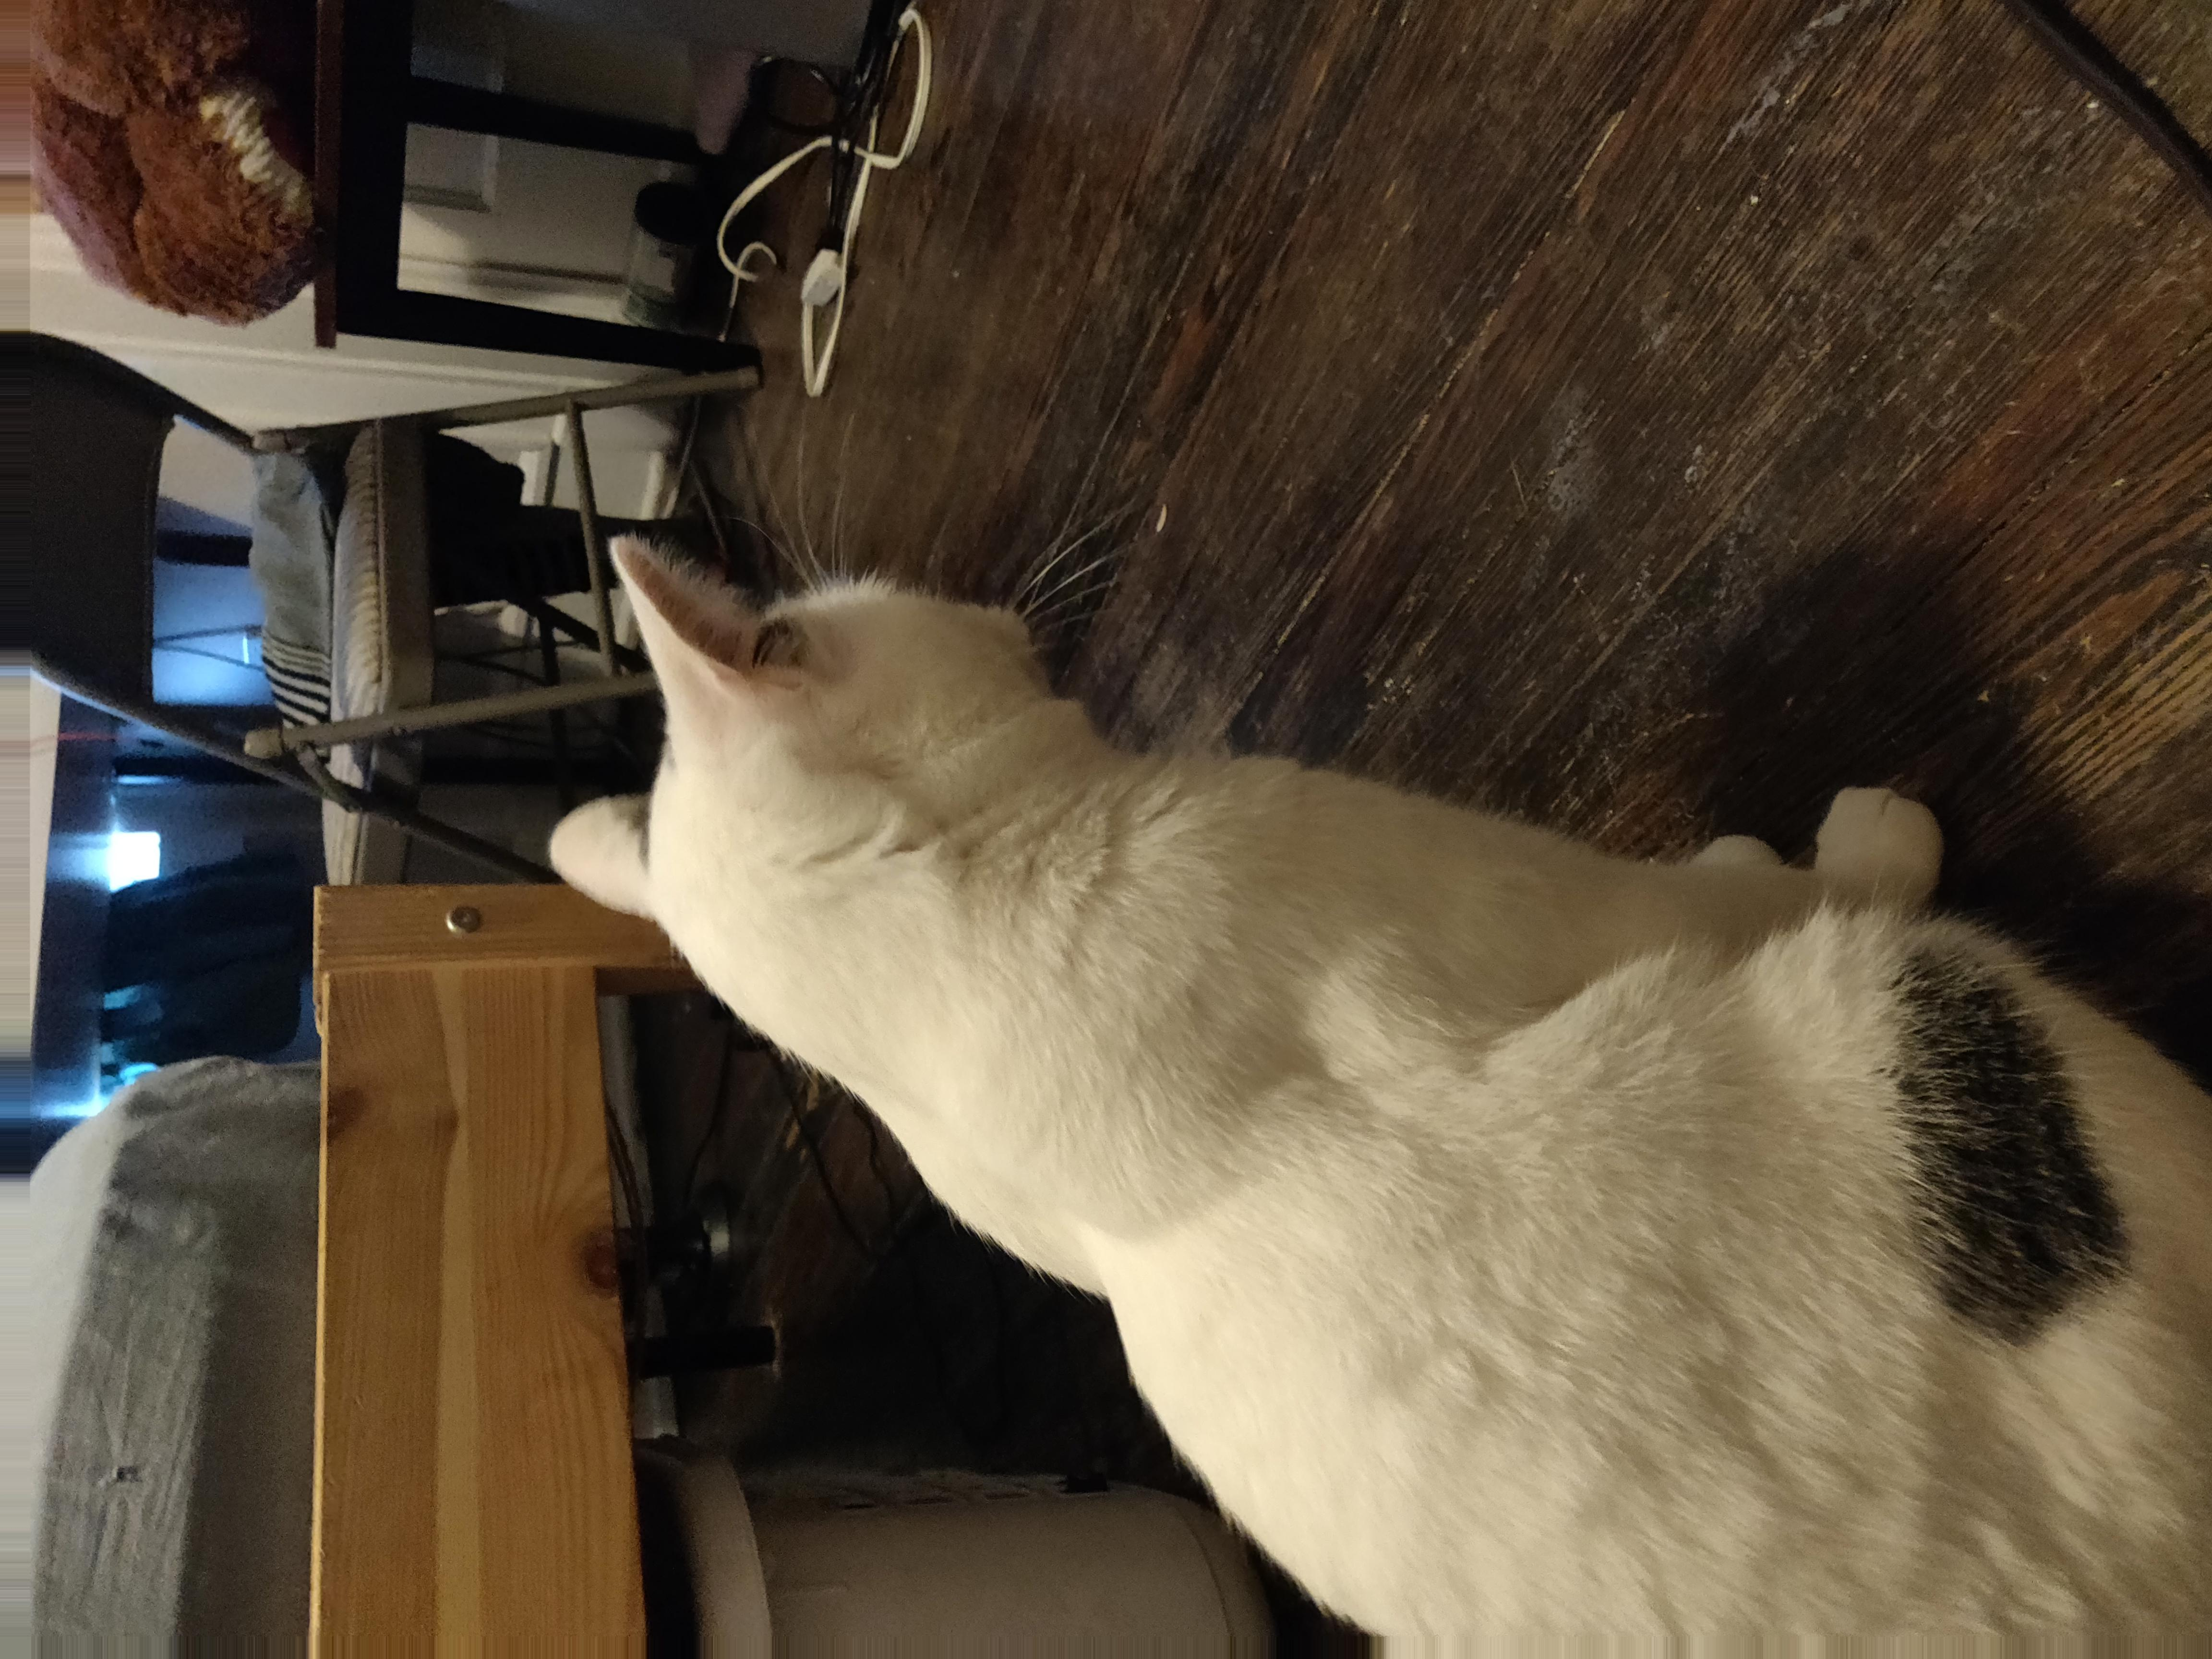cat: (606, 612, 2212, 1659)
